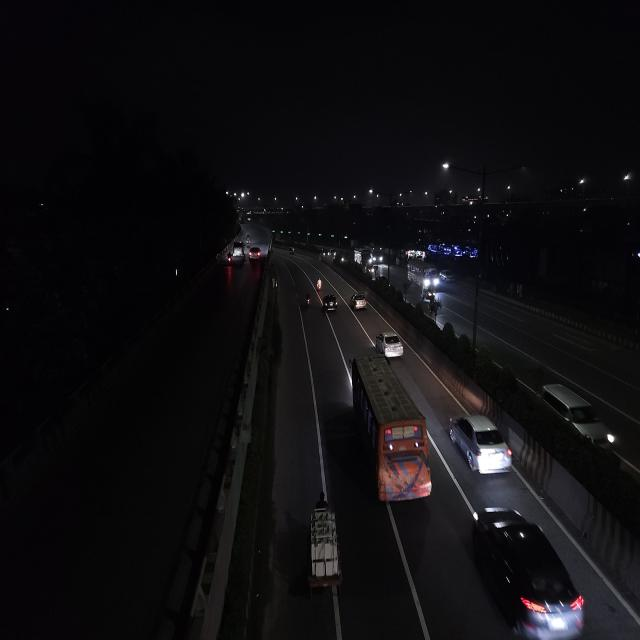bus: (346, 352, 434, 515), (407, 257, 439, 290), (353, 248, 373, 270)
car: (469, 503, 587, 639), (530, 378, 622, 458), (447, 409, 517, 481), (374, 328, 405, 363), (351, 291, 369, 312), (321, 292, 339, 312), (231, 240, 245, 261), (248, 244, 262, 262)
cng: (288, 244, 296, 256)
motorcycle: (427, 294, 443, 322), (314, 273, 324, 291), (304, 290, 312, 309), (226, 250, 234, 266)
pedestrian: (271, 275, 280, 291)
rickshaw: (298, 548, 348, 604)
